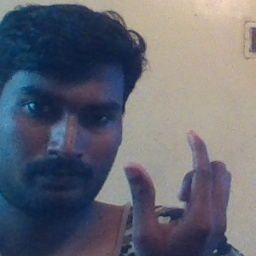U: (122, 127, 237, 256)
